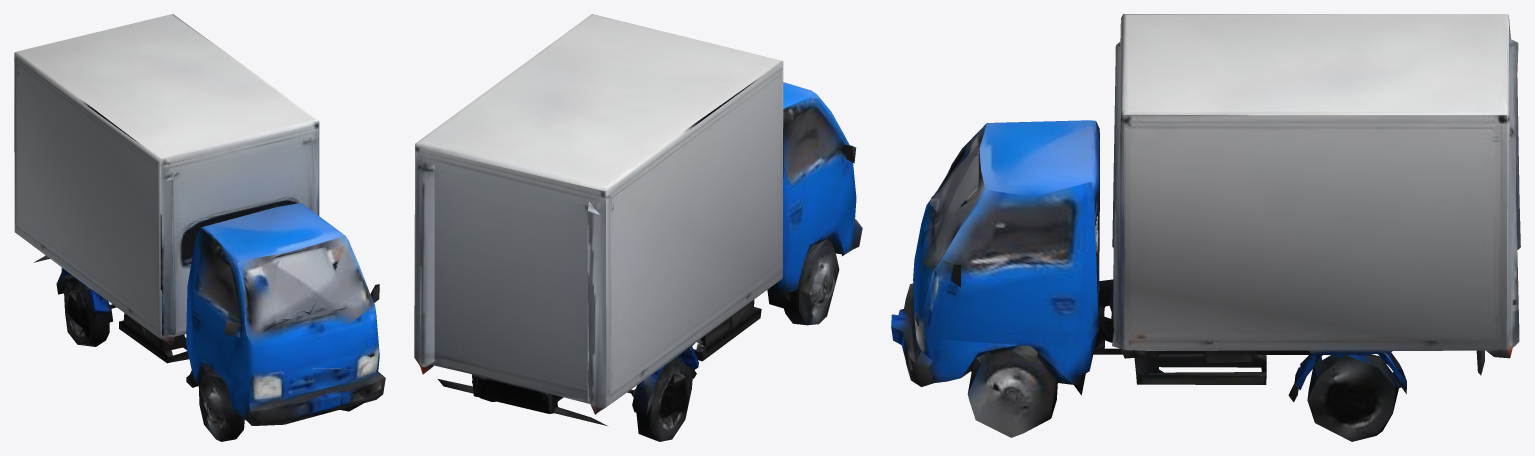
The model's file is truck.glb.
The picture shows the model from 3 angles, left to right: view 1: azimuth 30°, elevation 25°; view 2: azimuth 150°, elevation 25°; view 3: azimuth 270°, elevation 25°; orthographic projection. The views are drawn at different scales.
Parts seen in each view (by area): view 1: truck; view 2: truck; view 3: truck.
Boxes of the visible parts, x1,y1,x2,y2 form: truck: [14, 14, 385, 441]; truck: [414, 14, 862, 441]; truck: [891, 14, 1520, 441].
Bounding box in the file's own units: 0.3941 × 0.5929 × 1.02.
Materials: 1 (1 with a texture image).
